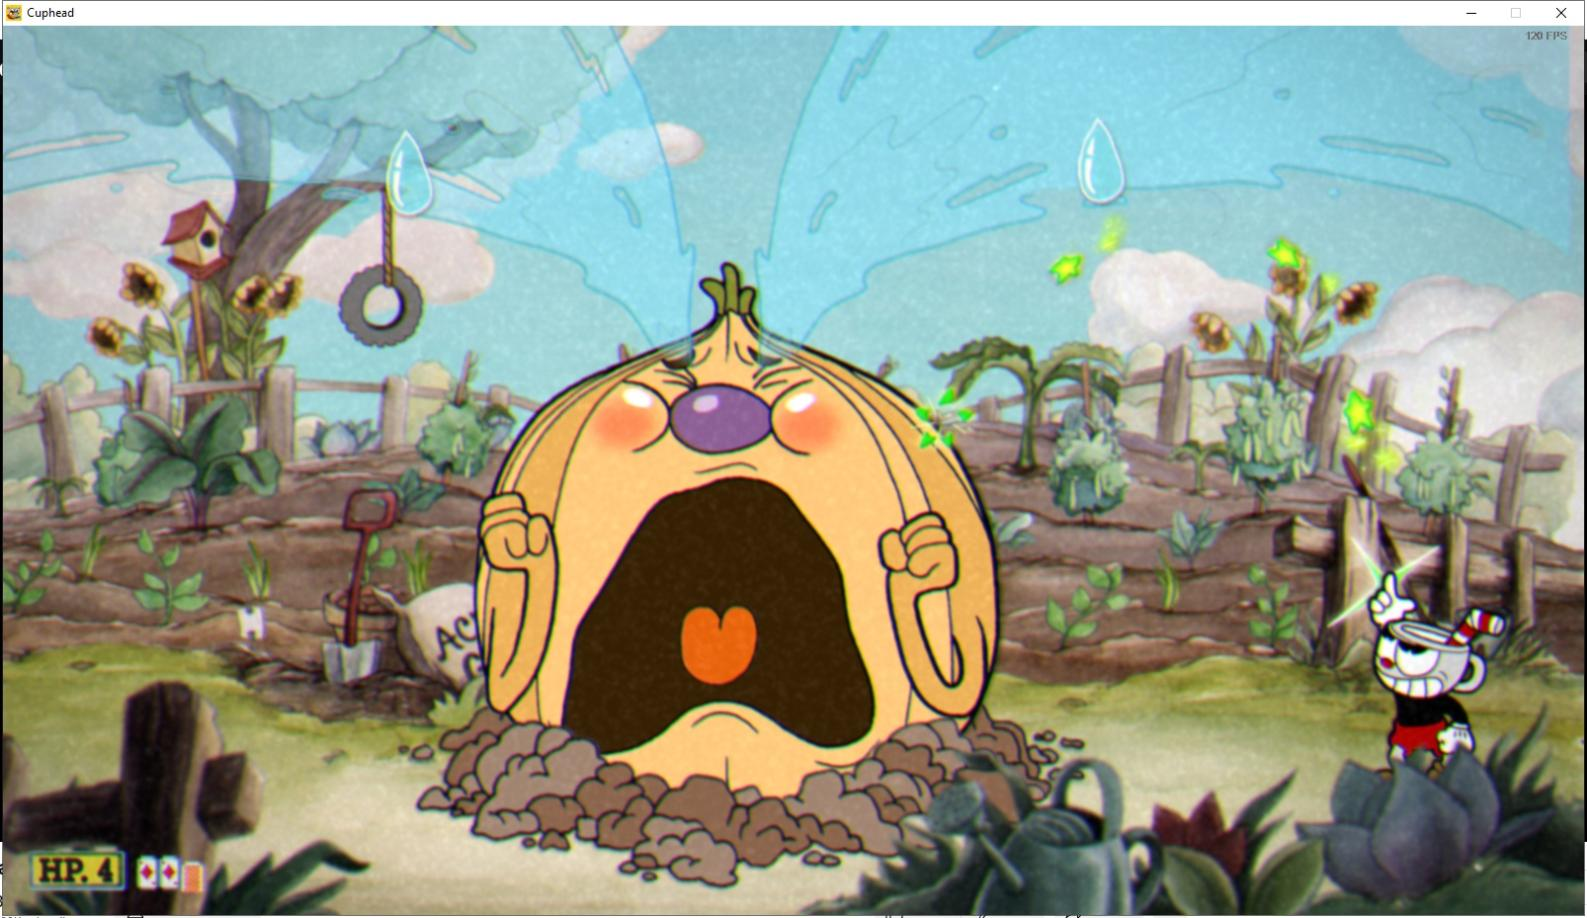hp4: (91, 852, 125, 892)
onion_boss: (480, 260, 997, 798)
player: (1352, 570, 1506, 818)
rain: (376, 122, 445, 232), (1074, 103, 1132, 217)
